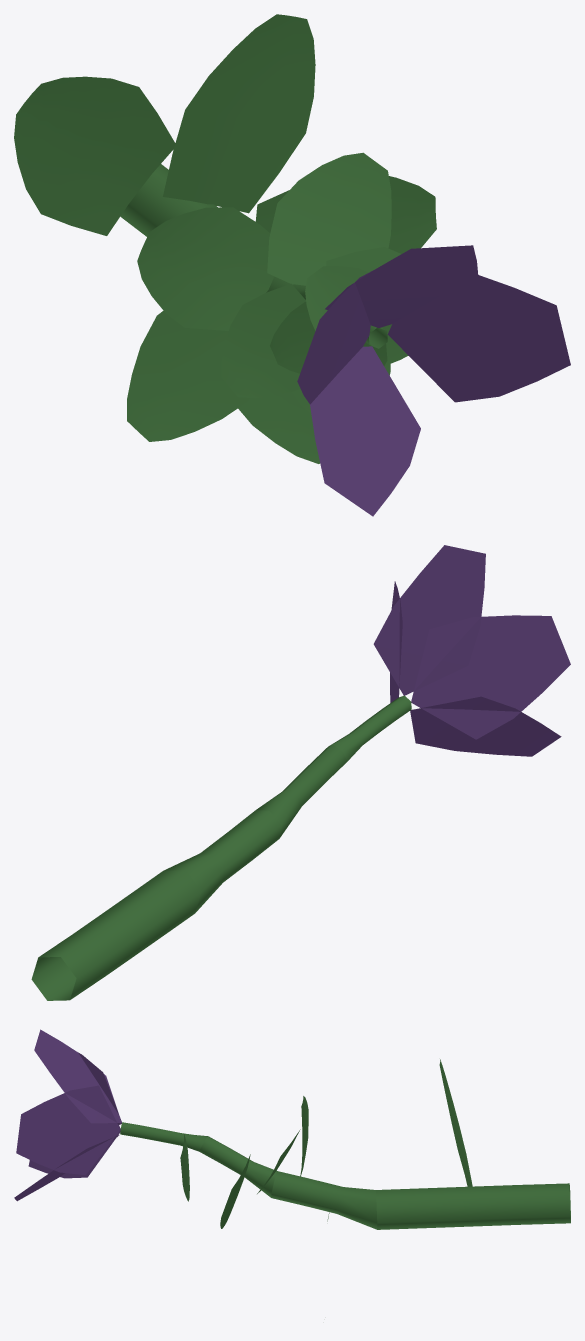
The model's file is Violen_tall.dae.
3 views of the same model, one above another, from view 1: azimuth 30°, elevation 25°; view 2: azimuth 150°, elevation 25°; view 3: azimuth 270°, elevation 25° (orthographic). The views are drawn at different scales.
Visible parts, largest first — view 1: polySurface11, polySurface10, polySurface44, polySurface23, polySurface41, polySurface25, polySurface21, polySurface43, polySurface30, polySurface42, polySurface14, polySurface19 (+4 smaller); view 2: polySurface42, polySurface1, polySurface43, polySurface41, polySurface5, polySurface7, polySurface9; view 3: polySurface1, polySurface44, polySurface5, polySurface43, polySurface7, polySurface9, polySurface10, polySurface40, polySurface27, polySurface42, polySurface23, polySurface41 (+1 smaller).
Part boxes in pixels (x1,y1,x2,y2): polySurface11: (163, 14, 315, 213); polySurface10: (14, 76, 175, 235); polySurface44: (387, 275, 570, 402); polySurface23: (137, 207, 274, 330); polySurface41: (310, 346, 420, 516); polySurface25: (267, 152, 391, 285); polySurface21: (127, 311, 249, 441); polySurface43: (325, 245, 478, 327); polySurface30: (221, 283, 306, 398); polySurface42: (297, 268, 376, 404); polySurface14: (255, 176, 436, 253); polySurface19: (238, 392, 319, 463); polySurface42: (411, 615, 570, 739); polySurface1: (31, 870, 201, 1000); polySurface43: (373, 545, 485, 695); polySurface41: (410, 696, 561, 756); polySurface5: (164, 810, 280, 912); polySurface7: (256, 744, 347, 837); polySurface9: (329, 695, 411, 761); polySurface1: (376, 1183, 570, 1229); polySurface44: (16, 1085, 120, 1175); polySurface5: (271, 1171, 377, 1229); polySurface43: (34, 1029, 121, 1123); polySurface7: (199, 1136, 277, 1197); polySurface9: (120, 1122, 207, 1151); polySurface10: (439, 1059, 472, 1186); polySurface40: (14, 1135, 119, 1201); polySurface27: (220, 1154, 250, 1228); polySurface42: (78, 1052, 121, 1124); polySurface23: (300, 1096, 308, 1176); polySurface41: (28, 1125, 120, 1178).
Bounding box in the file's own units: 6.45 × 6.19 × 12.27.
